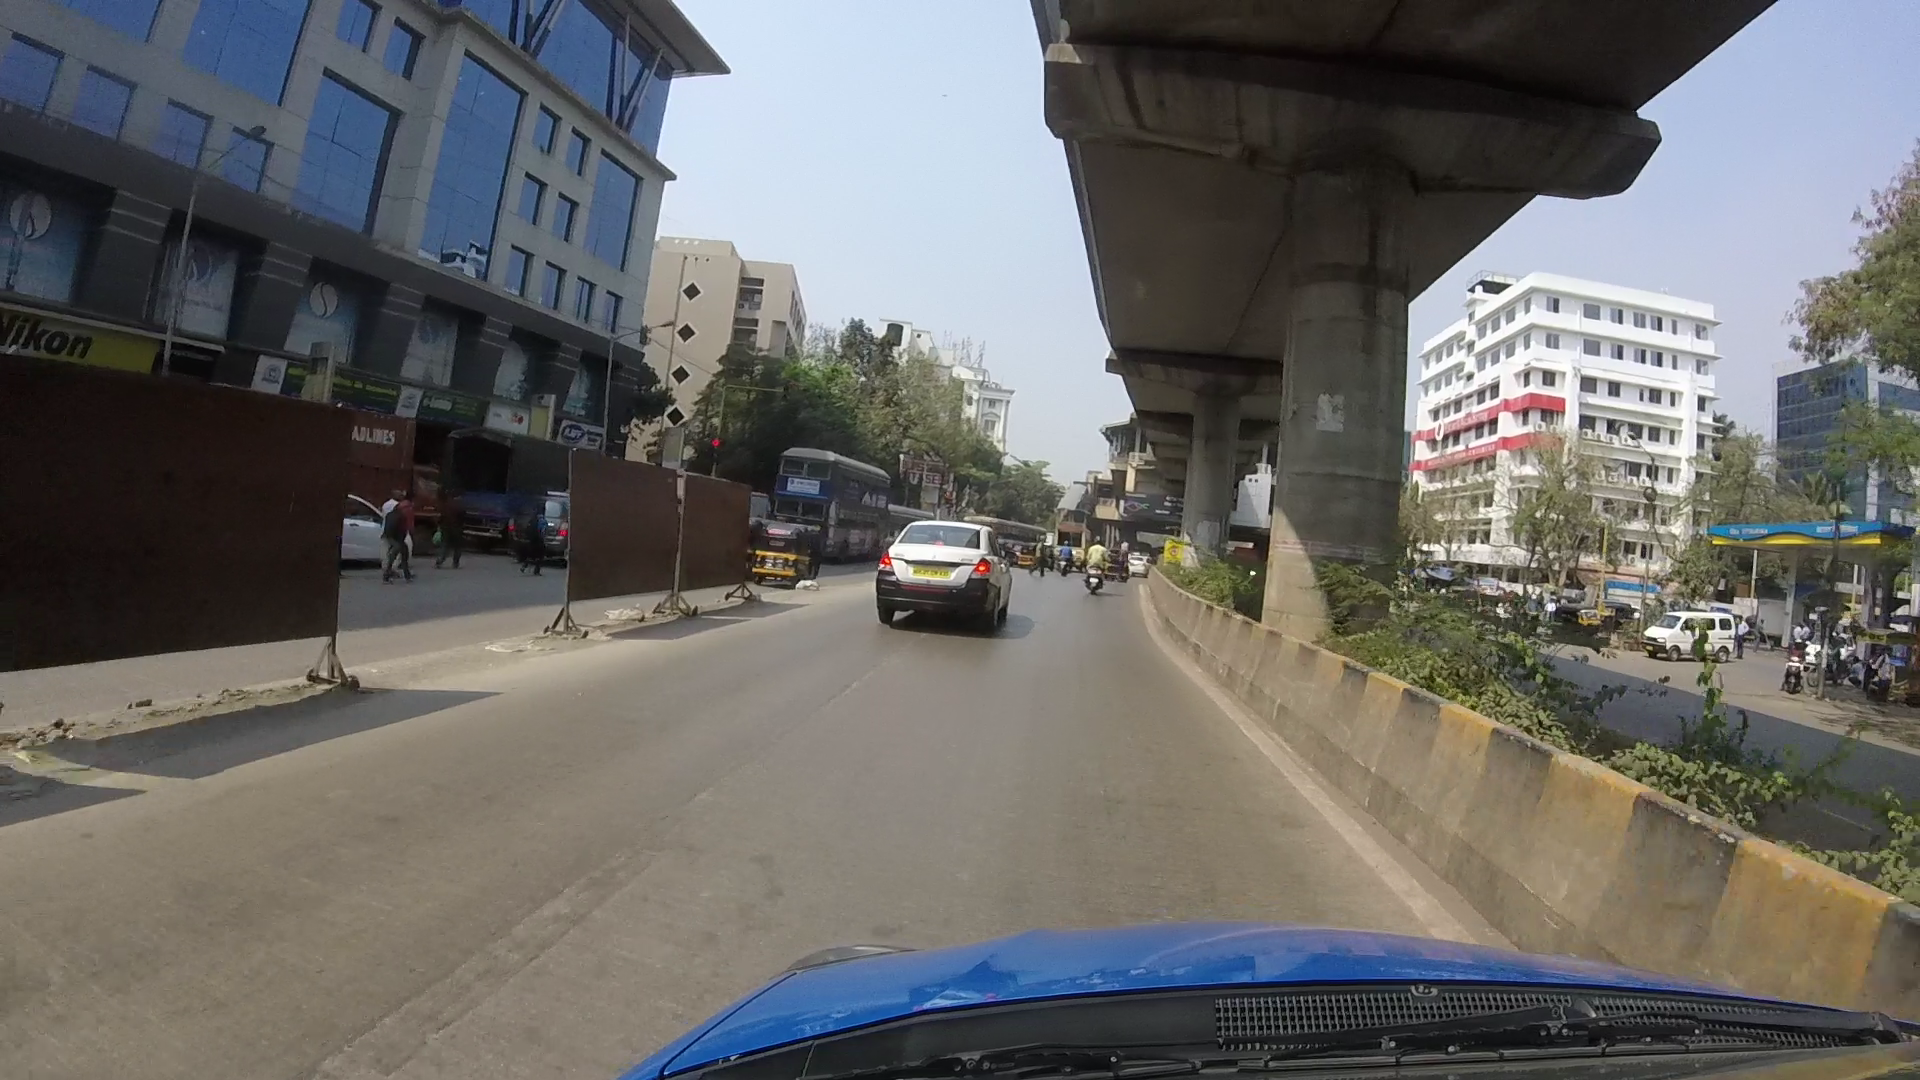car: (845, 481, 1025, 669)
